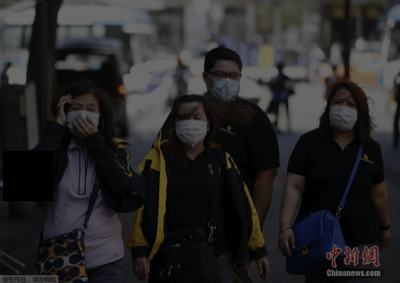with_mask: (65, 100, 101, 137), (175, 110, 207, 148), (327, 95, 360, 130), (208, 67, 240, 102)
